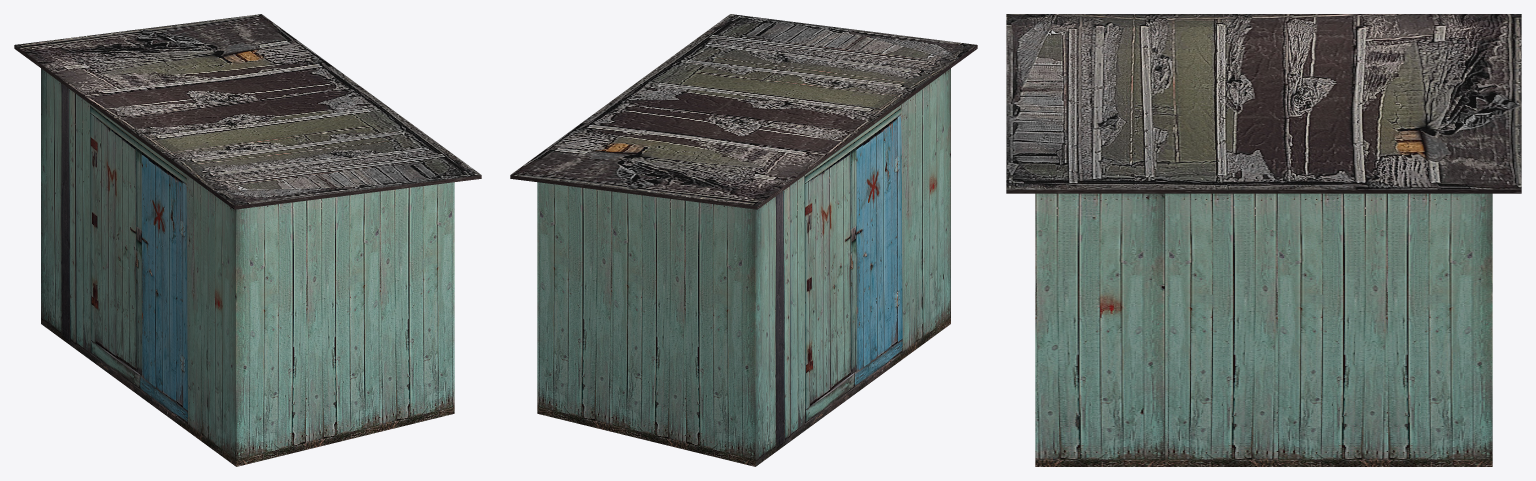
The model's file is sibir_toilet.FBX.
The picture shows the model from 3 angles, left to right: view 1: azimuth 30°, elevation 25°; view 2: azimuth 150°, elevation 25°; view 3: azimuth 270°, elevation 25°; orthographic projection. The views are drawn at different scales.
Visible parts, largest first — view 1: sibir_toilet; view 2: sibir_toilet; view 3: sibir_toilet.
Boxes of the visible parts, x1,y1,x2,y2 form: sibir_toilet: [14, 14, 481, 466]; sibir_toilet: [510, 14, 977, 466]; sibir_toilet: [1006, 14, 1521, 466].
Size of the model in its own units: 209 by 322 by 221.
